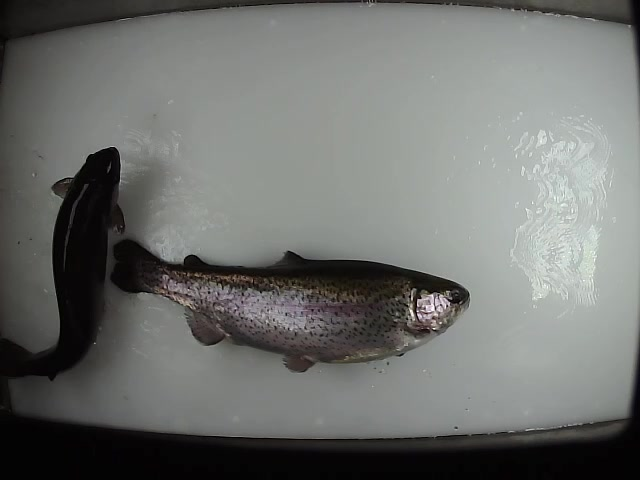fish: (109, 239, 473, 375), (1, 144, 127, 384)
